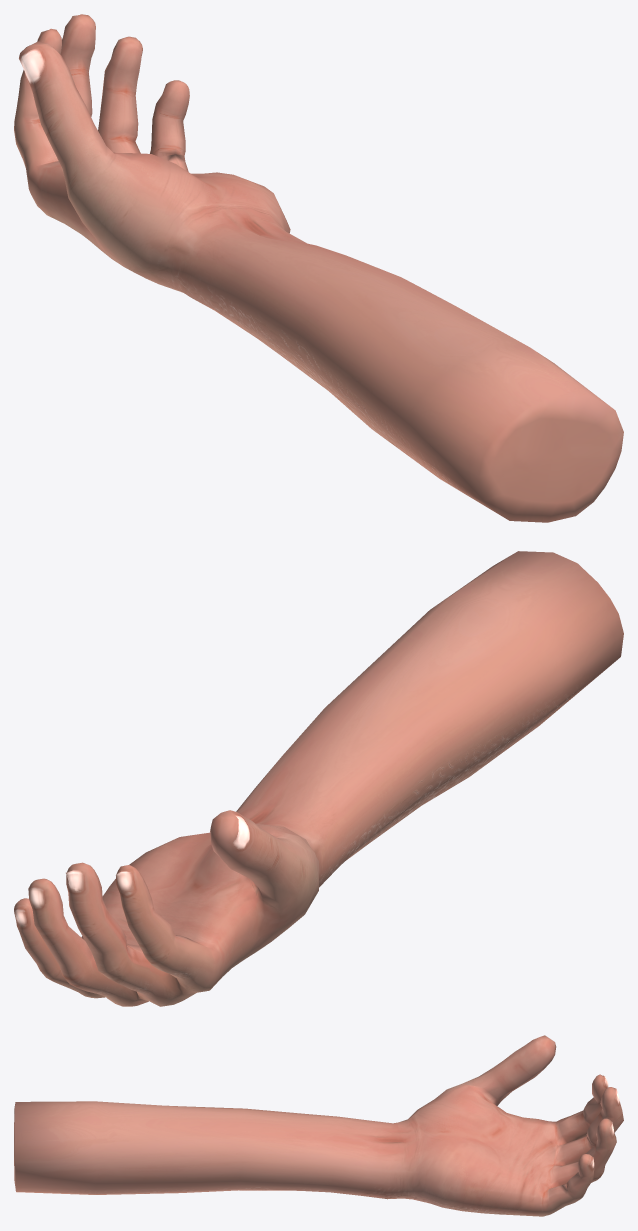
The model's file is Lefthand.fbx.
3 views of the same model, one above another, from view 1: azimuth 30°, elevation 25°; view 2: azimuth 150°, elevation 25°; view 3: azimuth 270°, elevation 25° (orthographic). The views are drawn at different scales.
Visible parts, largest first — view 1: Male_Arm; view 2: Male_Arm; view 3: Male_Arm.
Part boxes in pixels (<box>): Male_Arm: <box>14,14,623,522</box>; Male_Arm: <box>14,551,623,1006</box>; Male_Arm: <box>14,1035,623,1216</box>.
Size of the model in its own units: 9.97 by 10.15 by 40.68.
